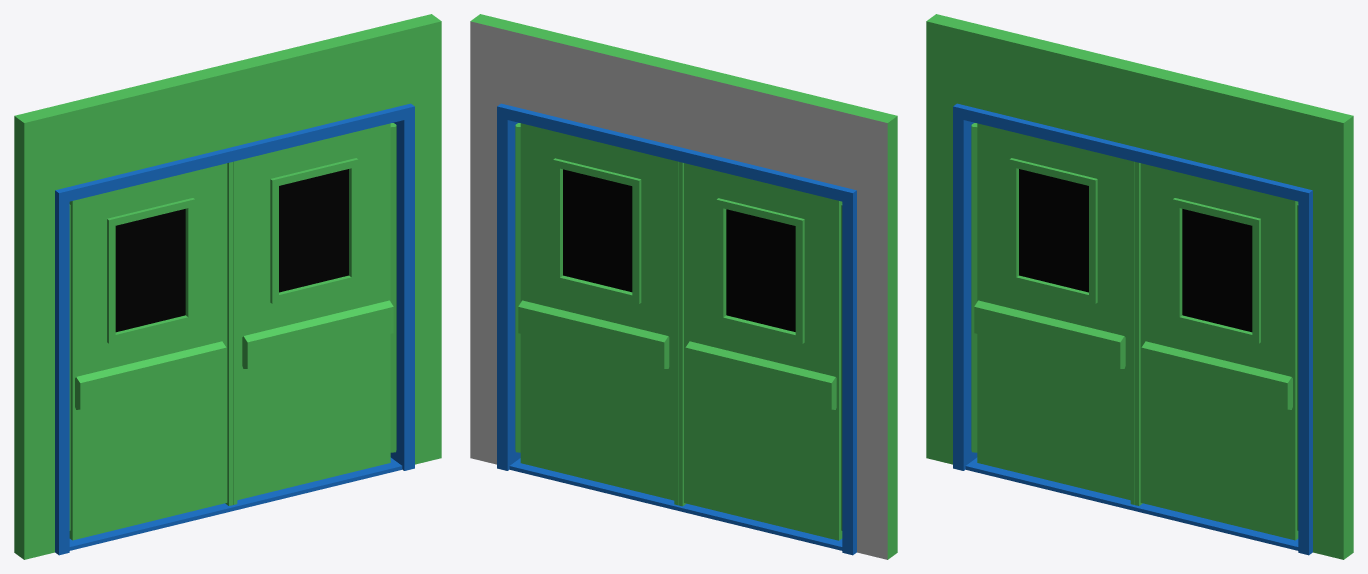
File: Ph_entrance_doors_1.fbx
The picture shows the model from 3 angles, left to right: view 1: azimuth 30°, elevation 25°; view 2: azimuth 150°, elevation 25°; view 3: azimuth 330°, elevation 25°; orthographic projection.
Visible parts, largest first — view 1: Boole_5, Symmetry_27, Cylinder_71; view 2: Boole_5, Symmetry_27, Cylinder_71; view 3: Boole_5, Cylinder_71, Symmetry_27.
Boxes of the visible parts, x1,y1,x2,y2 form: Boole_5: [14, 14, 441, 559]; Symmetry_27: [69, 162, 232, 540]; Cylinder_71: [233, 123, 396, 504]; Boole_5: [470, 14, 897, 559]; Symmetry_27: [678, 162, 842, 540]; Cylinder_71: [515, 123, 678, 505]; Boole_5: [926, 14, 1353, 559]; Cylinder_71: [1135, 162, 1298, 540]; Symmetry_27: [971, 123, 1134, 504].
Size of the model in its own units: 250 by 250 by 18.75.
